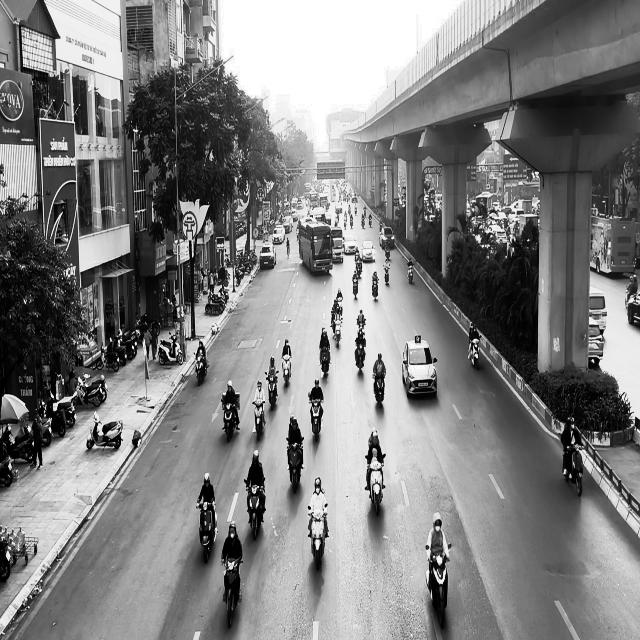bus: (590, 212, 636, 276), (297, 216, 333, 276)
car: (402, 334, 438, 398), (259, 242, 276, 269), (379, 226, 395, 249), (360, 241, 376, 262), (343, 234, 357, 254)
motorbike: (425, 543, 451, 628), (220, 556, 242, 628), (195, 499, 218, 564), (86, 412, 123, 451), (243, 478, 266, 540), (307, 505, 328, 571), (562, 442, 583, 497), (367, 458, 385, 516), (286, 437, 304, 493), (220, 393, 240, 443), (158, 331, 183, 365), (308, 397, 324, 442), (252, 400, 266, 440), (193, 351, 209, 386), (264, 370, 278, 410), (468, 333, 481, 370), (354, 335, 366, 374), (372, 372, 385, 406), (331, 314, 342, 348), (281, 356, 291, 387), (320, 347, 330, 378), (352, 276, 358, 299), (372, 278, 378, 300), (407, 262, 413, 283), (384, 264, 389, 285)
